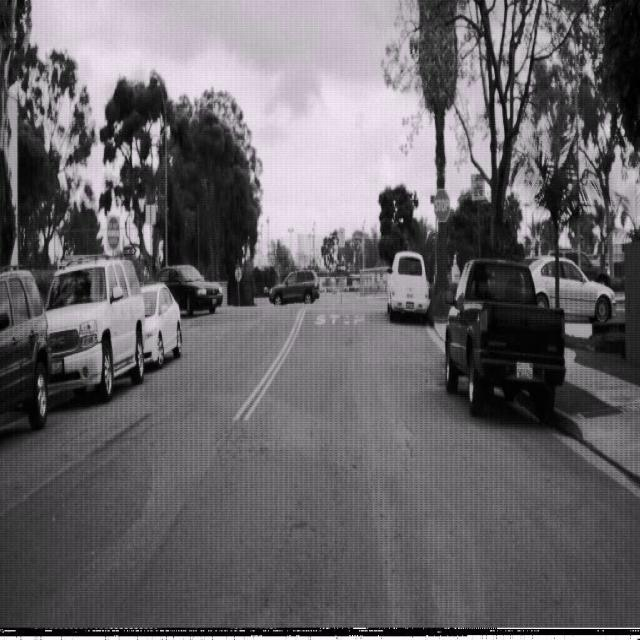stop_sign: (433, 188, 451, 223)
